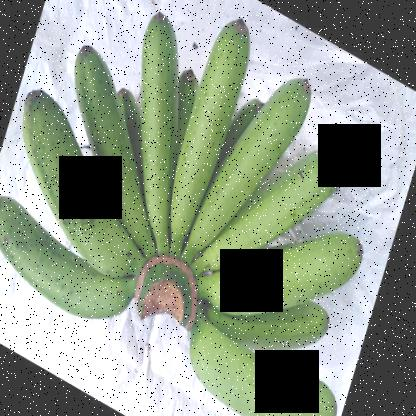unripe: (20, 95, 154, 289), (177, 150, 354, 296), (180, 229, 371, 334), (1, 186, 131, 337), (128, 19, 189, 277), (186, 333, 343, 415)
